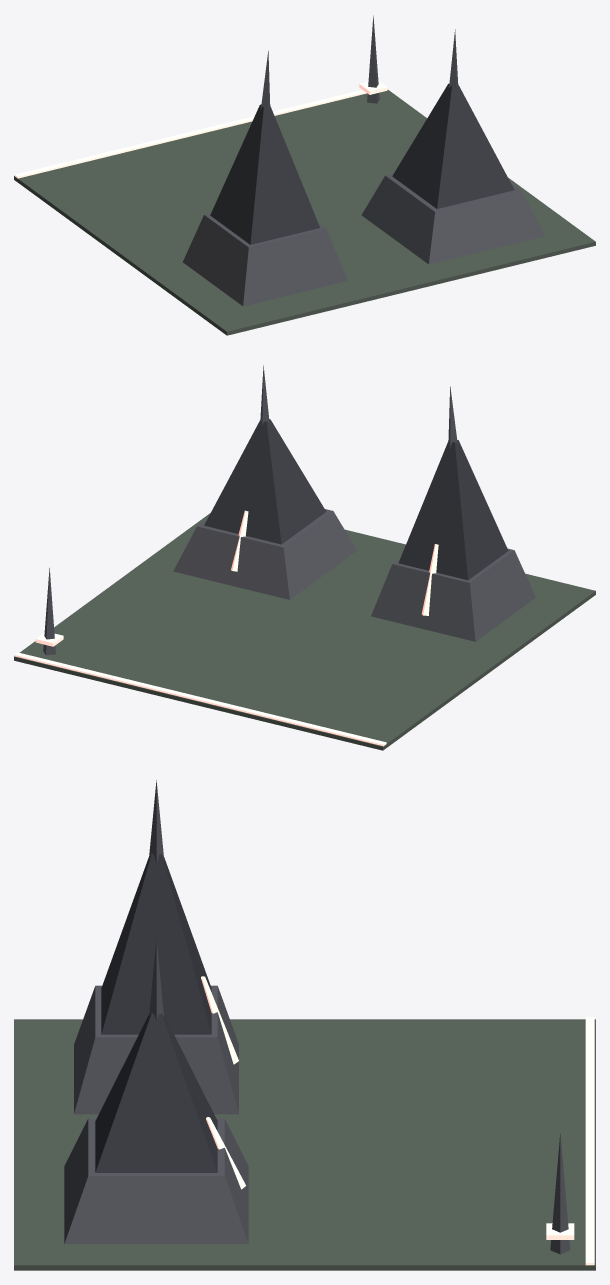
The model's file is zone_low_4_t1.glb.
3 views of the same model, one above another, from view 1: azimuth 30°, elevation 25°; view 2: azimuth 150°, elevation 25°; view 3: azimuth 270°, elevation 25° (orthographic). The views are drawn at different scales.
Visible parts, largest first — view 1: zone_low_4_t1, detail; view 2: zone_low_4_t1, detail; view 3: zone_low_4_t1, detail.
Boxes of the visible parts, box(x1,y1,x2,y2) form: zone_low_4_t1: box(14, 29, 595, 335); detail: box(14, 15, 387, 178); zone_low_4_t1: box(14, 365, 595, 750); detail: box(14, 568, 386, 746); zone_low_4_t1: box(14, 780, 595, 1270); detail: box(546, 1017, 594, 1265).
Bounding box in the file's own units: 19.6 × 11.44 × 19.6.
